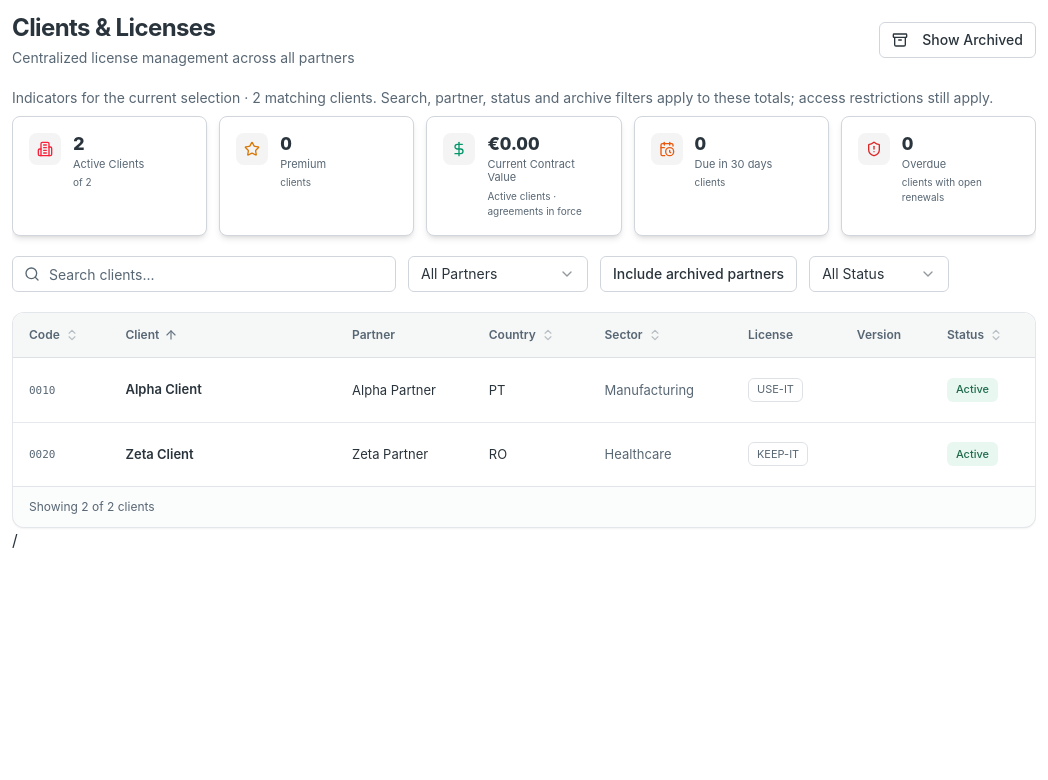
it: Shared directory table presentation and behavior › shows dark customer names, consistent statuses and retains client navigation
Click the button with aria-label "Open client Alpha Client" at (164, 390), box [126,380,202,399]
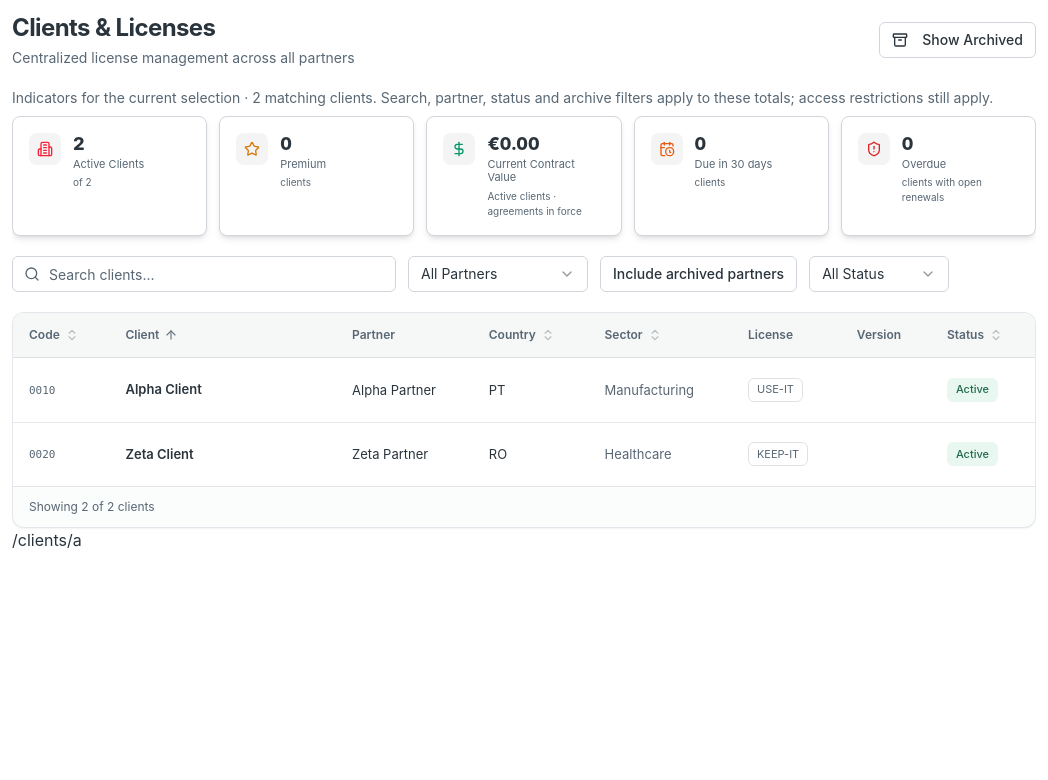
Check: the text with test id "location" reads "/clients/a", box [12,530,82,550]
